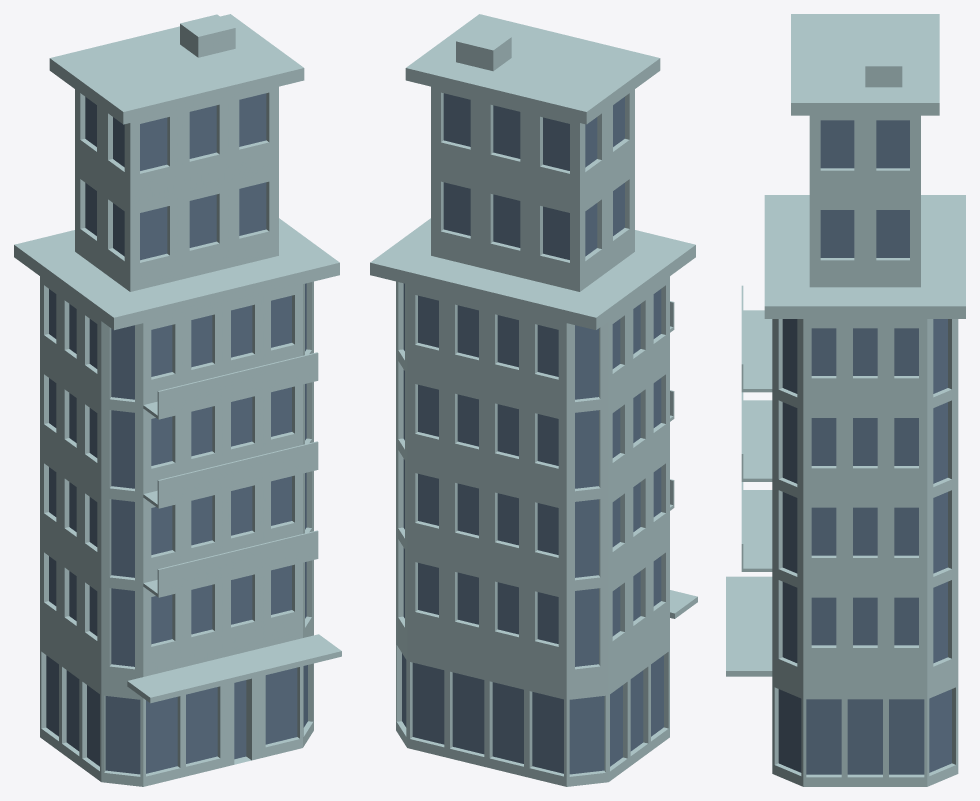
The model's file is building_c.glb.
The picture shows the model from 3 angles, left to right: view 1: azimuth 30°, elevation 25°; view 2: azimuth 150°, elevation 25°; view 3: azimuth 270°, elevation 25°; orthographic projection.
Parts seen in each view (by area): view 1: building_c; view 2: building_c; view 3: building_c.
Boxes of the visible parts, box(x1,y1,x2,y2) form: building_c: box(14, 14, 341, 786); building_c: box(370, 14, 697, 786); building_c: box(726, 14, 965, 786).
Size of the model in its own units: 8.5 by 24.85 by 7.75.
